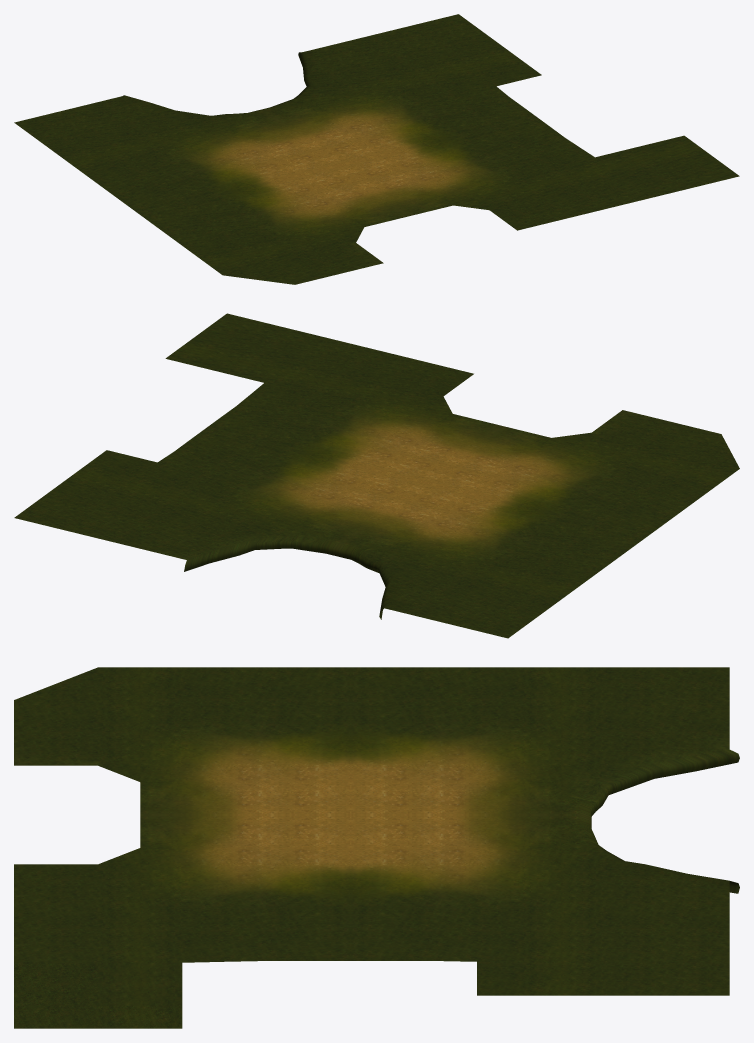
Rendered from Camp_Lumina.FBX.
The picture shows the model from 3 angles, top to bottom: view 1: azimuth 30°, elevation 25°; view 2: azimuth 150°, elevation 25°; view 3: azimuth 270°, elevation 25°; orthographic projection. The views are drawn at different scales.
Parts seen in each view (by area): view 1: Camp_Lumina; view 2: Camp_Lumina; view 3: Camp_Lumina.
Part boxes in pixels (bbox=[...]): Camp_Lumina: bbox=[14, 14, 739, 284]; Camp_Lumina: bbox=[14, 313, 739, 638]; Camp_Lumina: bbox=[14, 667, 739, 1028].
Size of the model in its own units: 48.92 by 0.8303 by 41.54.
